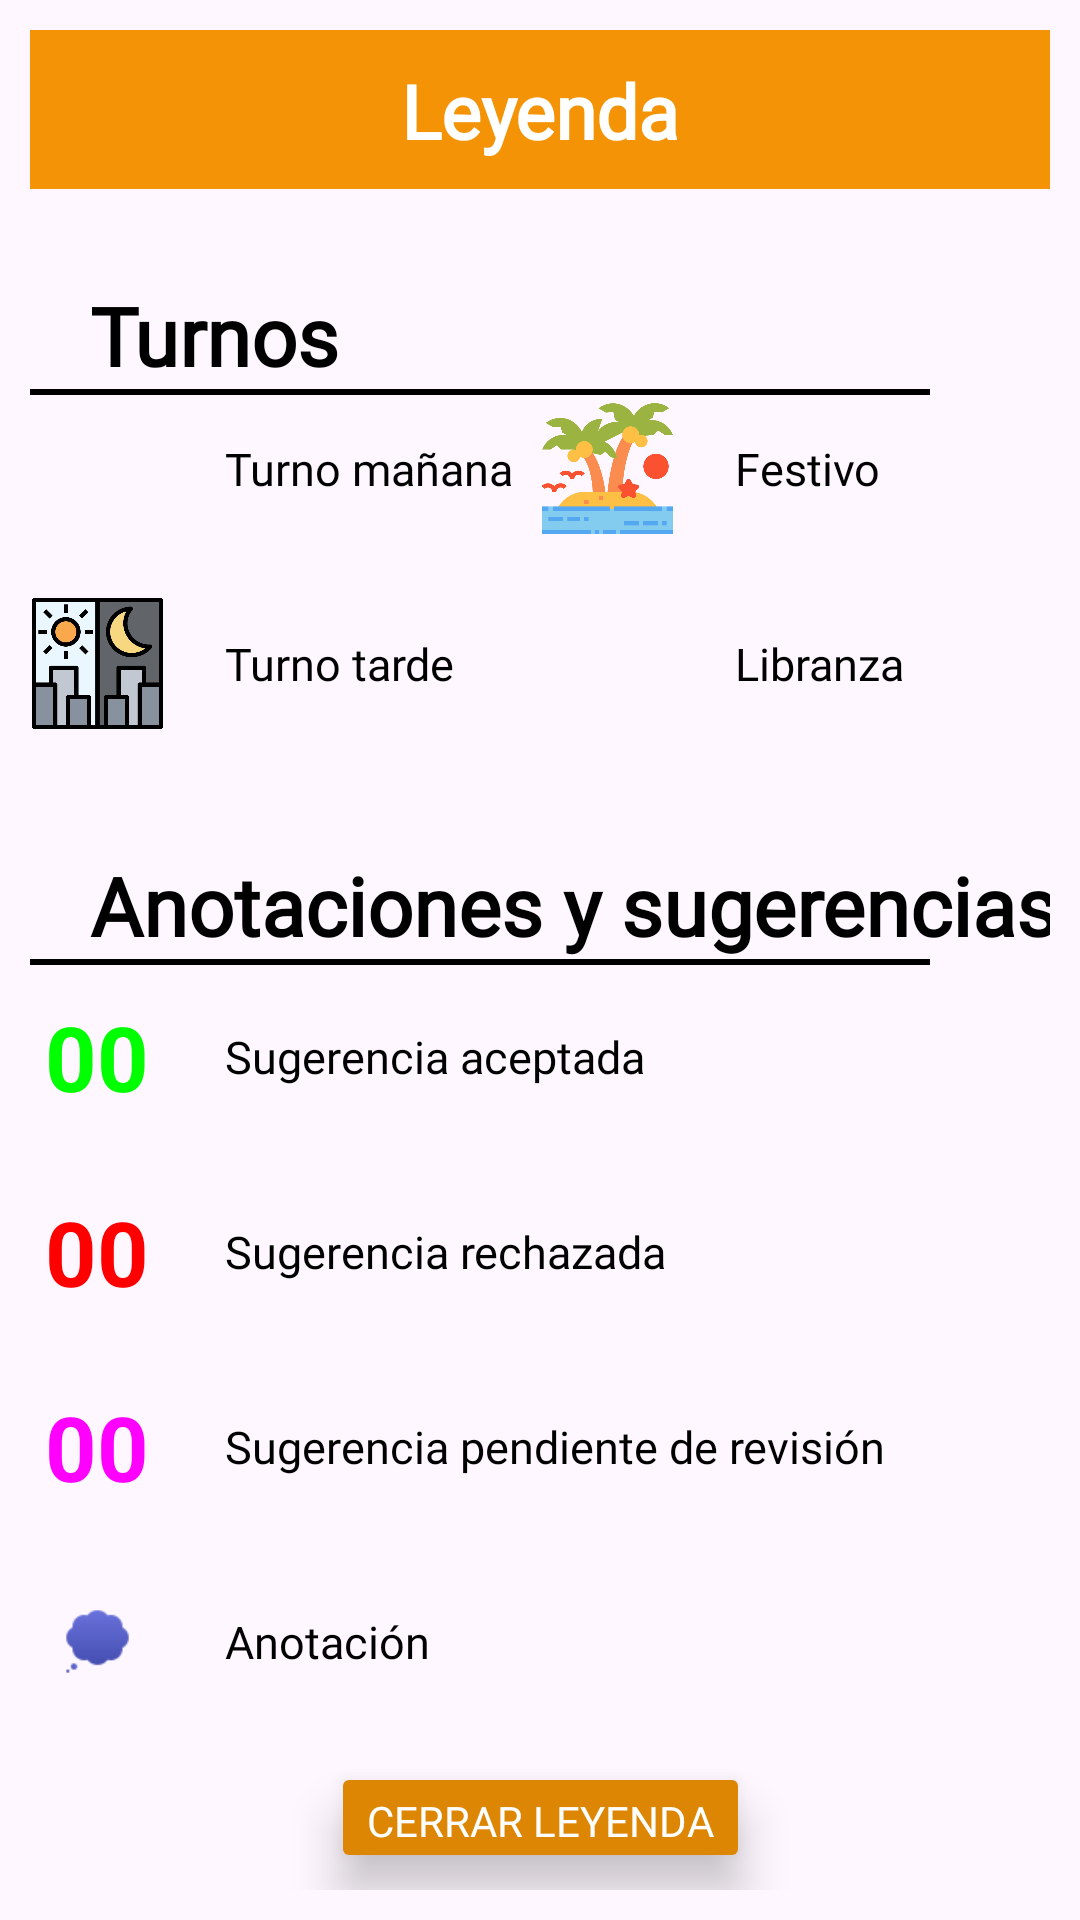

Where icons sit on this 1080*1920 app screen, as box(x1, y1, x2, y2):
privatenoteicon: box(66, 1610, 129, 1673)
turnovacaciones: box(542, 403, 673, 534)
